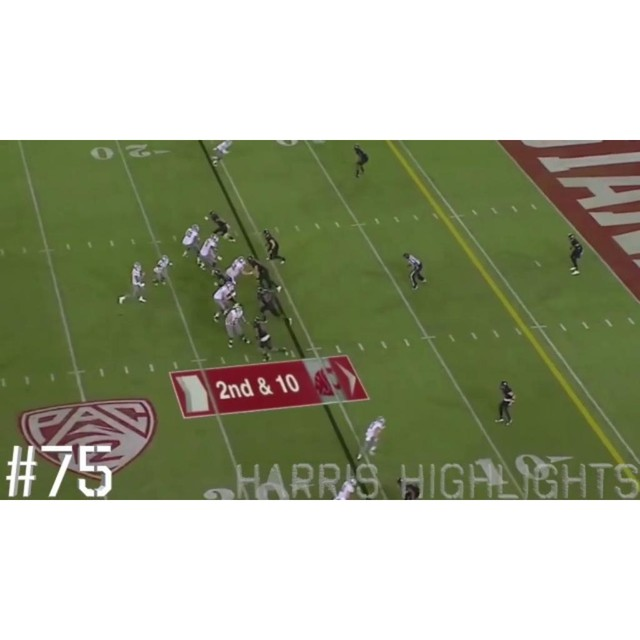american-football-player: (252, 317, 286, 362), (355, 416, 386, 464), (256, 286, 292, 325), (119, 261, 148, 306), (247, 256, 281, 292), (212, 279, 238, 323), (225, 303, 249, 348), (495, 379, 516, 426), (197, 233, 221, 274), (206, 210, 235, 242), (262, 229, 286, 265), (566, 233, 584, 275), (224, 255, 247, 285), (181, 224, 201, 258), (352, 144, 370, 179), (152, 255, 172, 286), (211, 141, 233, 167)
referee: (403, 252, 425, 291)
